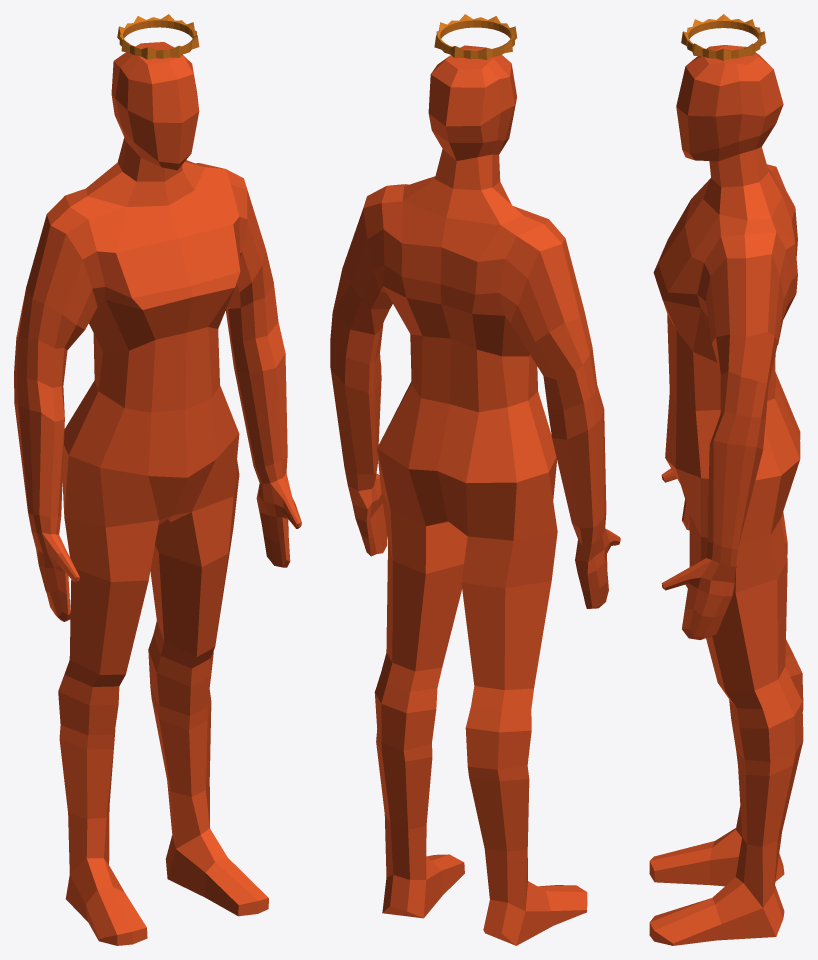
Rendered from character_templet_4.fbx.
The picture shows the model from 3 angles, left to right: view 1: azimuth 30°, elevation 25°; view 2: azimuth 150°, elevation 25°; view 3: azimuth 270°, elevation 25°; orthographic projection.
Visible parts, largest first — view 1: Circle.001, Circle; view 2: Circle.001, Circle; view 3: Circle.001, Circle.
Part boxes in pixels (bbox=[...]): Circle.001: bbox=[14, 42, 301, 945]; Circle: bbox=[117, 14, 199, 59]; Circle.001: bbox=[330, 45, 620, 945]; Circle: bbox=[434, 14, 517, 59]; Circle.001: bbox=[649, 45, 803, 945]; Circle: bbox=[681, 14, 766, 60].
Bounding box in the file's own units: 205 × 659 × 105.
